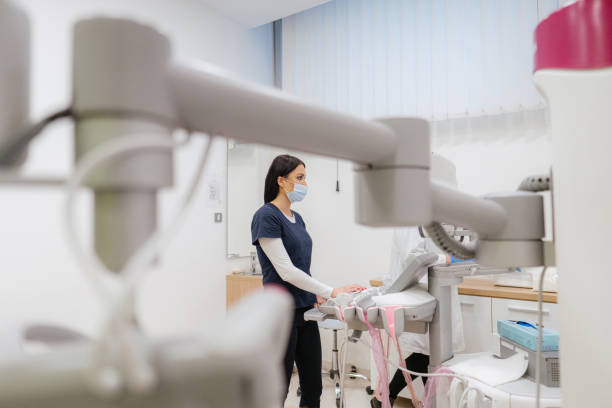with mask: (266, 154, 319, 207)
